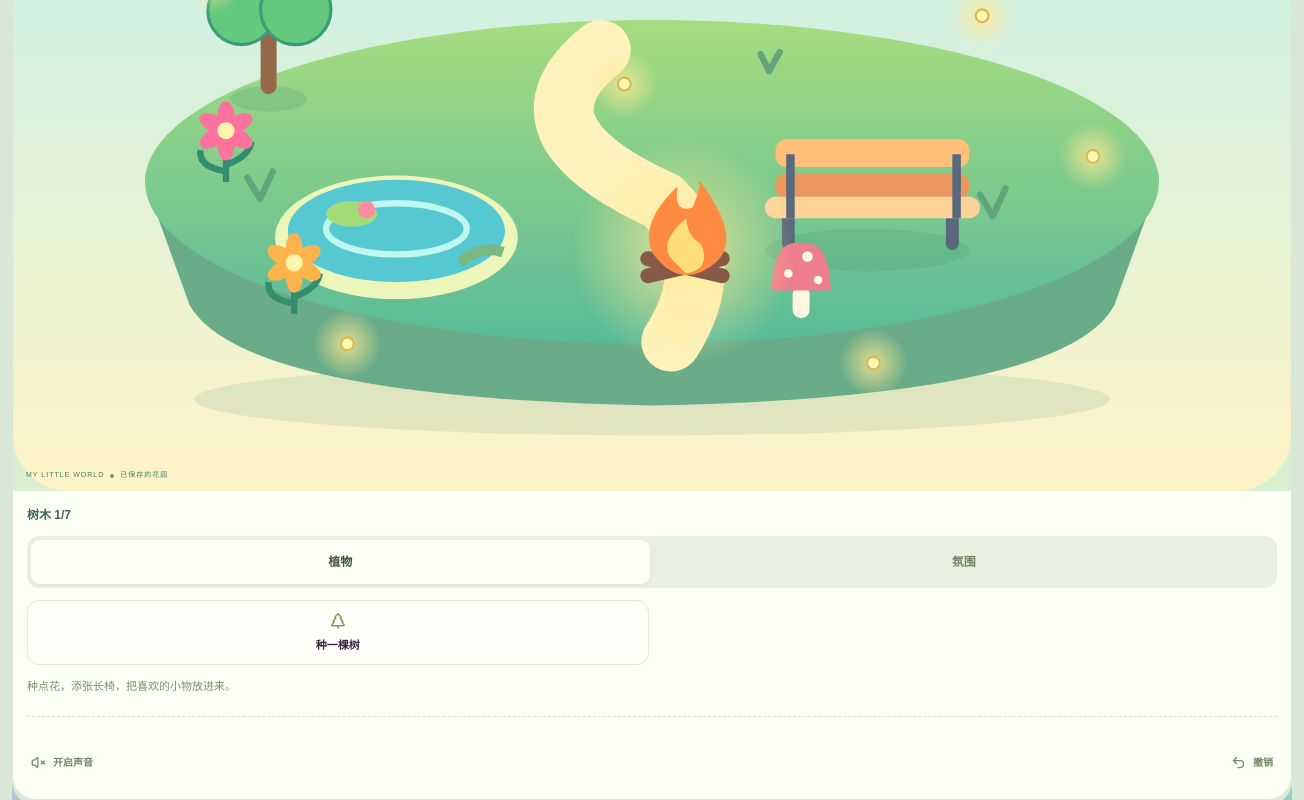
only offers actions supported by the connected backend
(page scrolled)
Expected: the button "种一棵树" is enabled, [27,600,648,665]
Click the button "氛围" at coordinates (964, 562), box [654,540,1273,584]
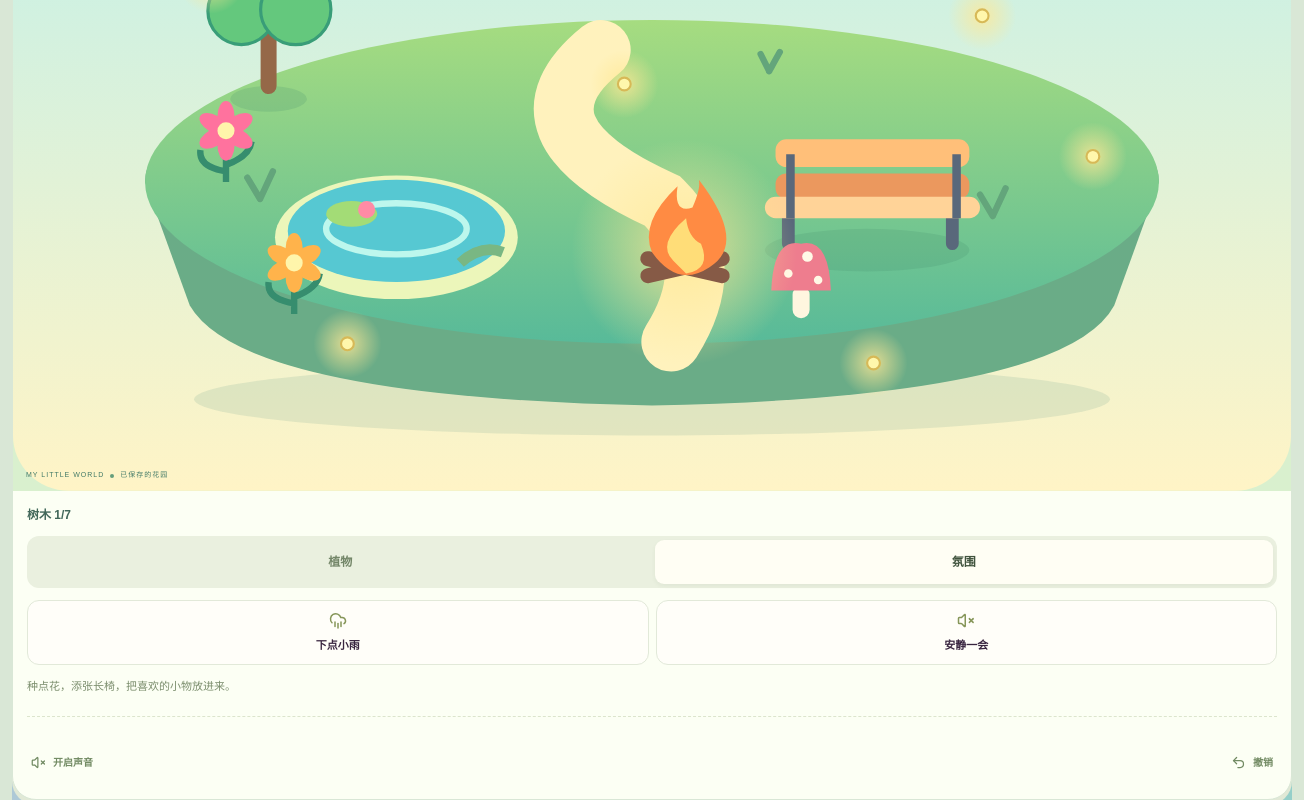
Now the button "下点小雨" is enabled, box [27,600,648,665]
